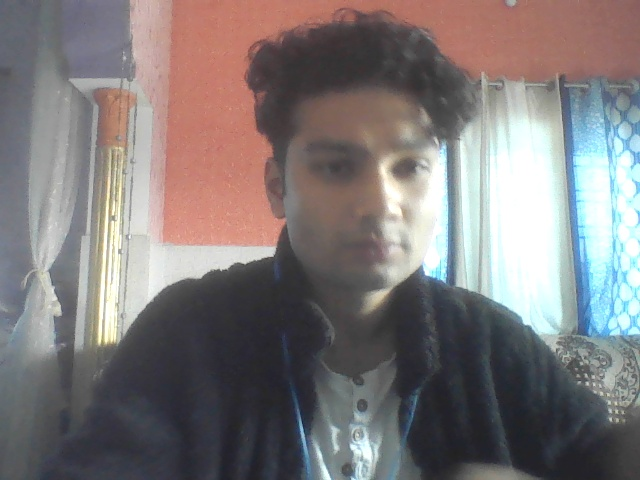real: (245, 13, 459, 317)
